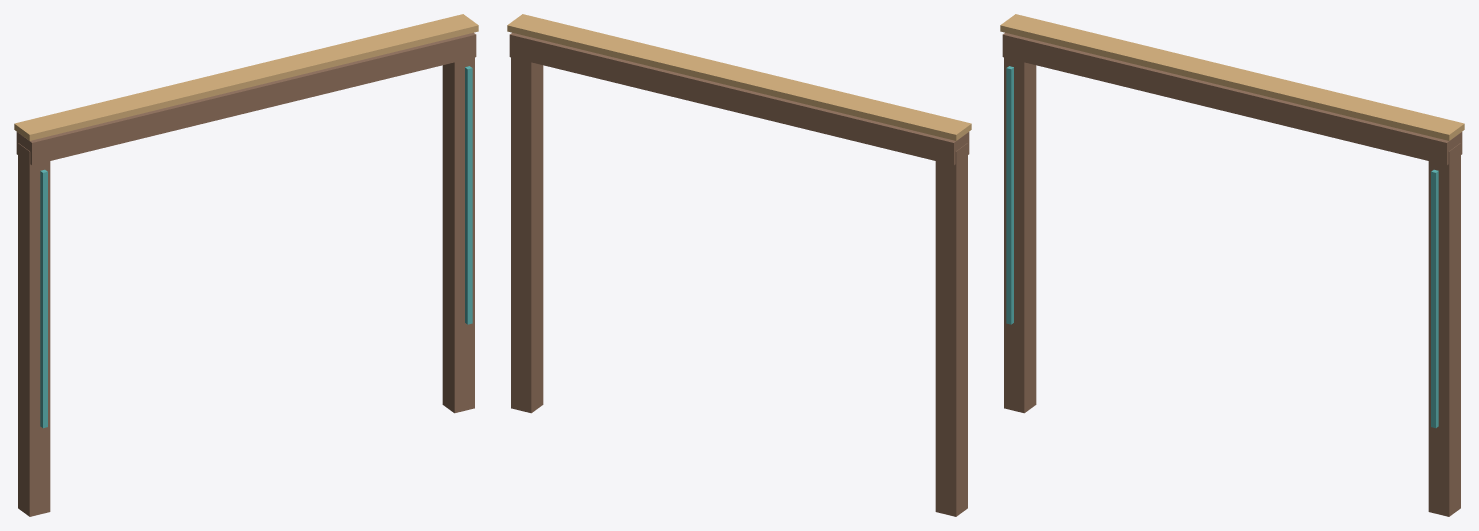
Rendered from portal-frame.glb.
3 views of the same model, side by side, from view 1: azimuth 30°, elevation 25°; view 2: azimuth 150°, elevation 25°; view 3: azimuth 330°, elevation 25° (orthographic).
Visible parts, largest first — view 1: piece2, piece0, piece3, piece1, piece4, piece5; view 2: piece0, piece2, piece1, piece3; view 3: piece2, piece1, piece3, piece0, piece5, piece4.
Part boxes in pixels (<box>): piece2: <box>16,32,476,165</box>; piece0: <box>18,143,50,516</box>; piece3: <box>14,14,478,140</box>; piece1: <box>442,57,474,413</box>; piece4: <box>40,169,47,428</box>; piece5: <box>465,66,472,324</box>; piece0: <box>935,143,967,516</box>; piece2: <box>509,32,969,165</box>; piece1: <box>511,57,543,413</box>; piece3: <box>507,14,971,140</box>; piece2: <box>1002,32,1462,165</box>; piece1: <box>1428,143,1460,516</box>; piece3: <box>1000,14,1464,140</box>; piece0: <box>1004,57,1036,413</box>; piece5: <box>1431,169,1438,428</box>; piece4: <box>1006,66,1013,324</box>.
Bounding box in the file's own units: 9.2 × 7.51 × 0.675.
